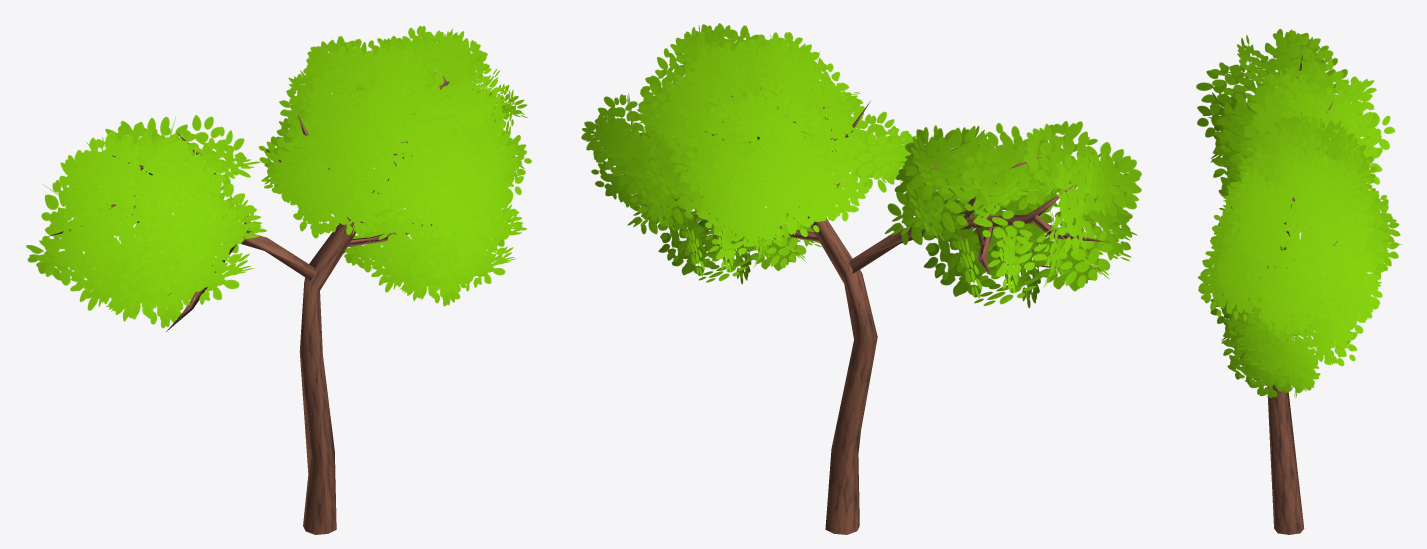
Rendered from normal-trees-4.glb.
3 renders of one model, left to right at view 1: azimuth 30°, elevation 25°; view 2: azimuth 150°, elevation 25°; view 3: azimuth 270°, elevation 25°, orthographic. The views are drawn at different scales.
Visible parts, largest first — view 1: NormalTree_4; view 2: NormalTree_4; view 3: NormalTree_4.
Boxes of the visible parts, left/top/right/bottom form: NormalTree_4: left=26, top=26, right=531, bottom=534; NormalTree_4: left=581, top=23, right=1141, bottom=534; NormalTree_4: left=1196, top=29, right=1401, bottom=534.
Bounding box in the file's own units: 5.67 × 5.1 × 2.4.
2 materials, 2 textured.
